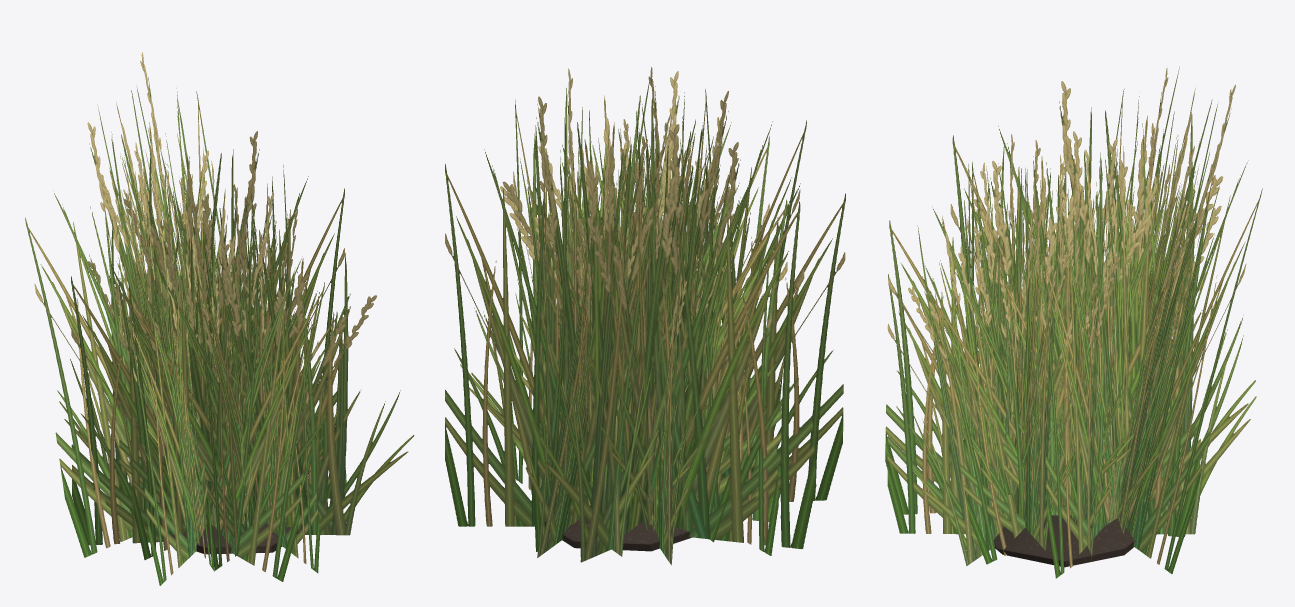
Rendered from TallGrassClump.fbx.
3 views of the same model, side by side, from view 1: azimuth 30°, elevation 25°; view 2: azimuth 150°, elevation 25°; view 3: azimuth 270°, elevation 25° (orthographic). The views are drawn at different scales.
Parts seen in each view (by area): view 1: TallGrassClump_Leaves, TallGrassClump_Main; view 2: TallGrassClump_Leaves, TallGrassClump_Main; view 3: TallGrassClump_Leaves, TallGrassClump_Main.
Boxes of the visible parts, box(x1,y1,x2,y2) form: TallGrassClump_Leaves: box(25, 52, 414, 585); TallGrassClump_Main: box(159, 517, 301, 554); TallGrassClump_Leaves: box(445, 67, 845, 565); TallGrassClump_Main: box(544, 517, 691, 551); TallGrassClump_Leaves: box(885, 66, 1262, 578); TallGrassClump_Main: box(993, 515, 1134, 567).
Size of the model in its own units: 240 by 317 by 259.
